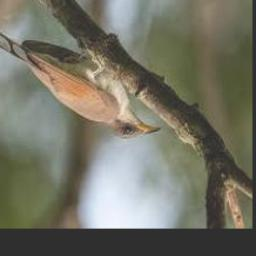Cuckoo: (0, 25, 162, 139)
